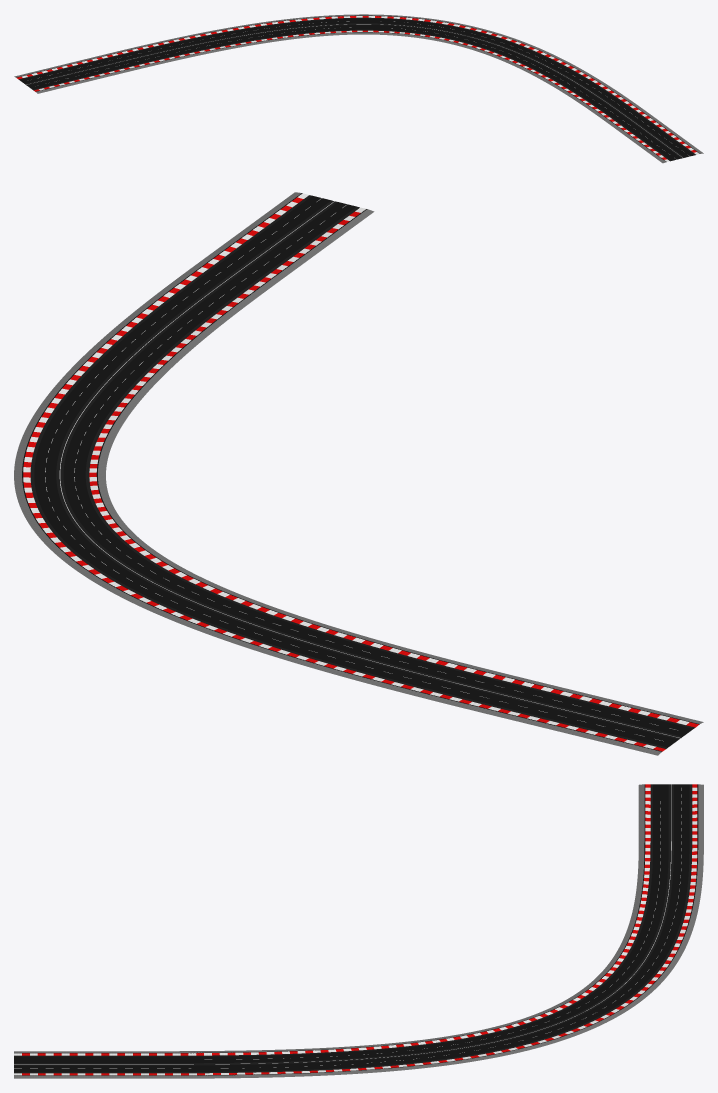
File: S0.2c2h0-wide.glb
3 views of the same model, one above another, from view 1: azimuth 30°, elevation 25°; view 2: azimuth 150°, elevation 25°; view 3: azimuth 270°, elevation 25° (orthographic). The views are drawn at different scales.
Parts seen in each view (by area): view 1: Grid; view 2: Grid; view 3: Grid.
Part boxes in pixels (bbox=[...]): Grid: bbox=[14, 14, 703, 163]; Grid: bbox=[14, 192, 703, 755]; Grid: bbox=[14, 784, 703, 1078].
Size of the model in its own units: 267 by 0.31 by 265.
